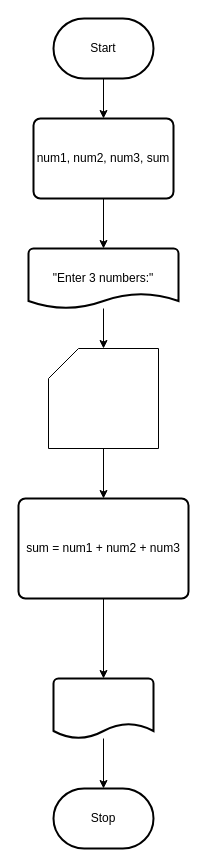
This 206x866 diagram has some shape labels left out. The centre of each missing label's shape, as x and y in pixels:
"num1, num2, num3" goes at (x=103, y=398).
"sum" goes at (x=103, y=708).
